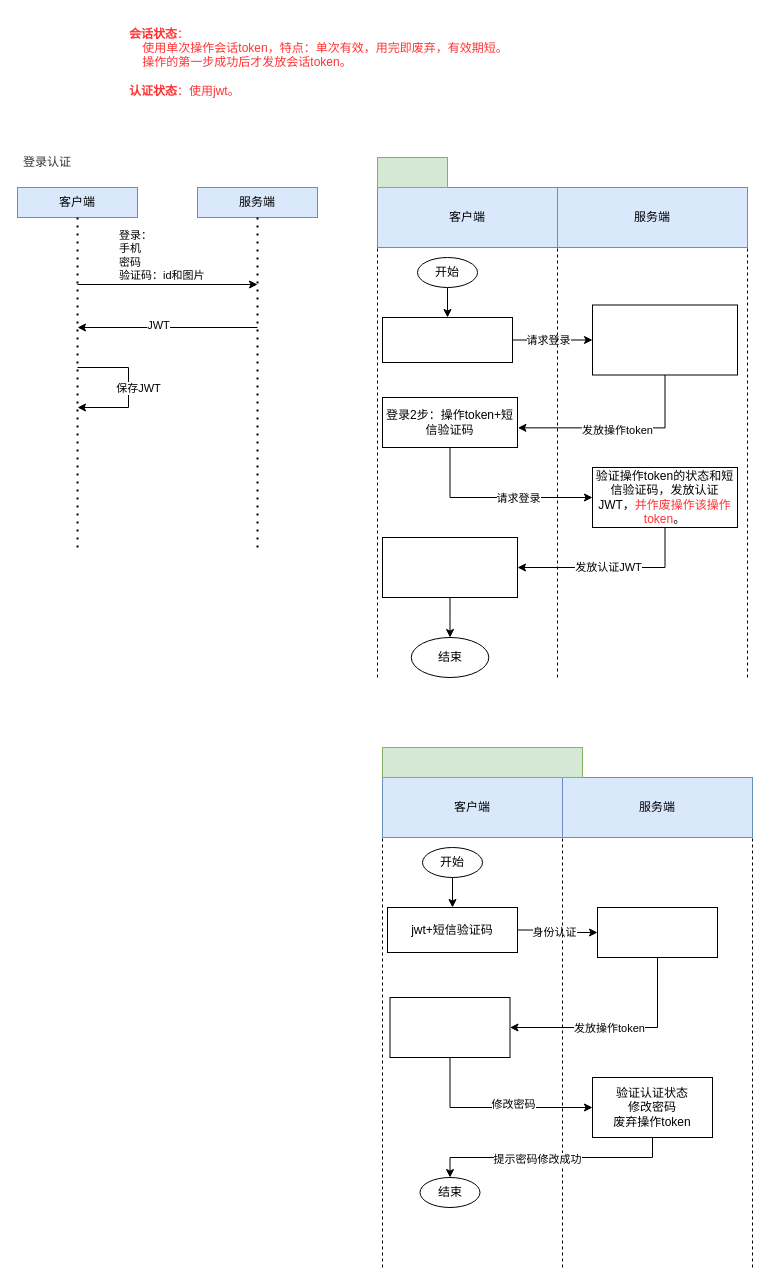
Some shapes in this 771 by 1286 pixel diagram are drawn without their labels. Here are the shapes that lost their labels. From the top down, the centre of each, then its label:
At point 412,172: "登录操作".
At point 447,339: "登录1步：手机+密码".
At point 665,339: "校验通过 记录状态并发放操作token （ 该token仅限登录操作，并有效期不长 ）".
At point 450,567: "保存认证JWT".
At point 482,762: "个人中心修改密码操作（认证后）".
At point 657,932: "认证成功 发放操作token".
At point 449,1027: "操作token+新密码".
